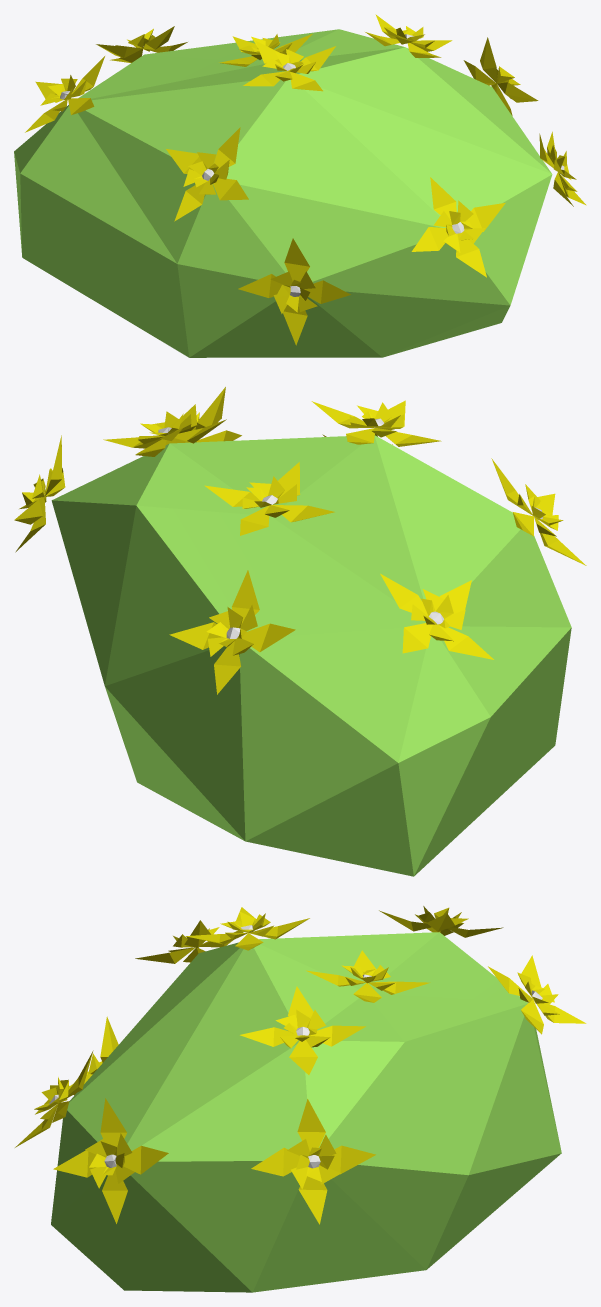
File: bush_01.fbx
3 renders of one model, top to bottom at view 1: azimuth 30°, elevation 25°; view 2: azimuth 150°, elevation 25°; view 3: azimuth 270°, elevation 25°, orthographic. The views are drawn at different scales.
Visible parts, largest first — view 1: bush_01; view 2: bush_01; view 3: bush_01.
Part boxes in pixels (<box>): bush_01: <box>14,14,586,357</box>; bush_01: <box>14,387,586,876</box>; bush_01: <box>15,906,586,1292</box>.
Size of the model in its own units: 46.39 by 27.06 by 47.73.
